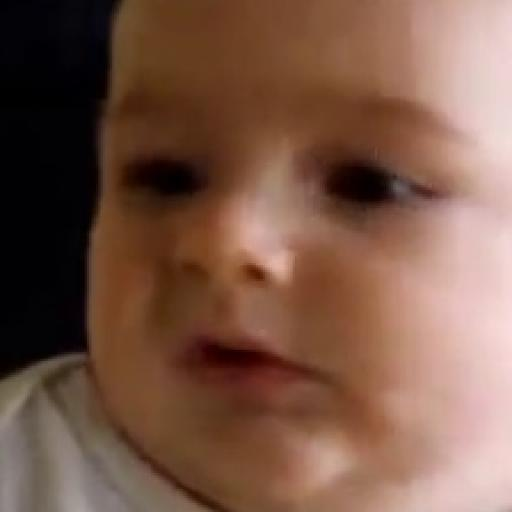Autism: (105, 4, 512, 495)
